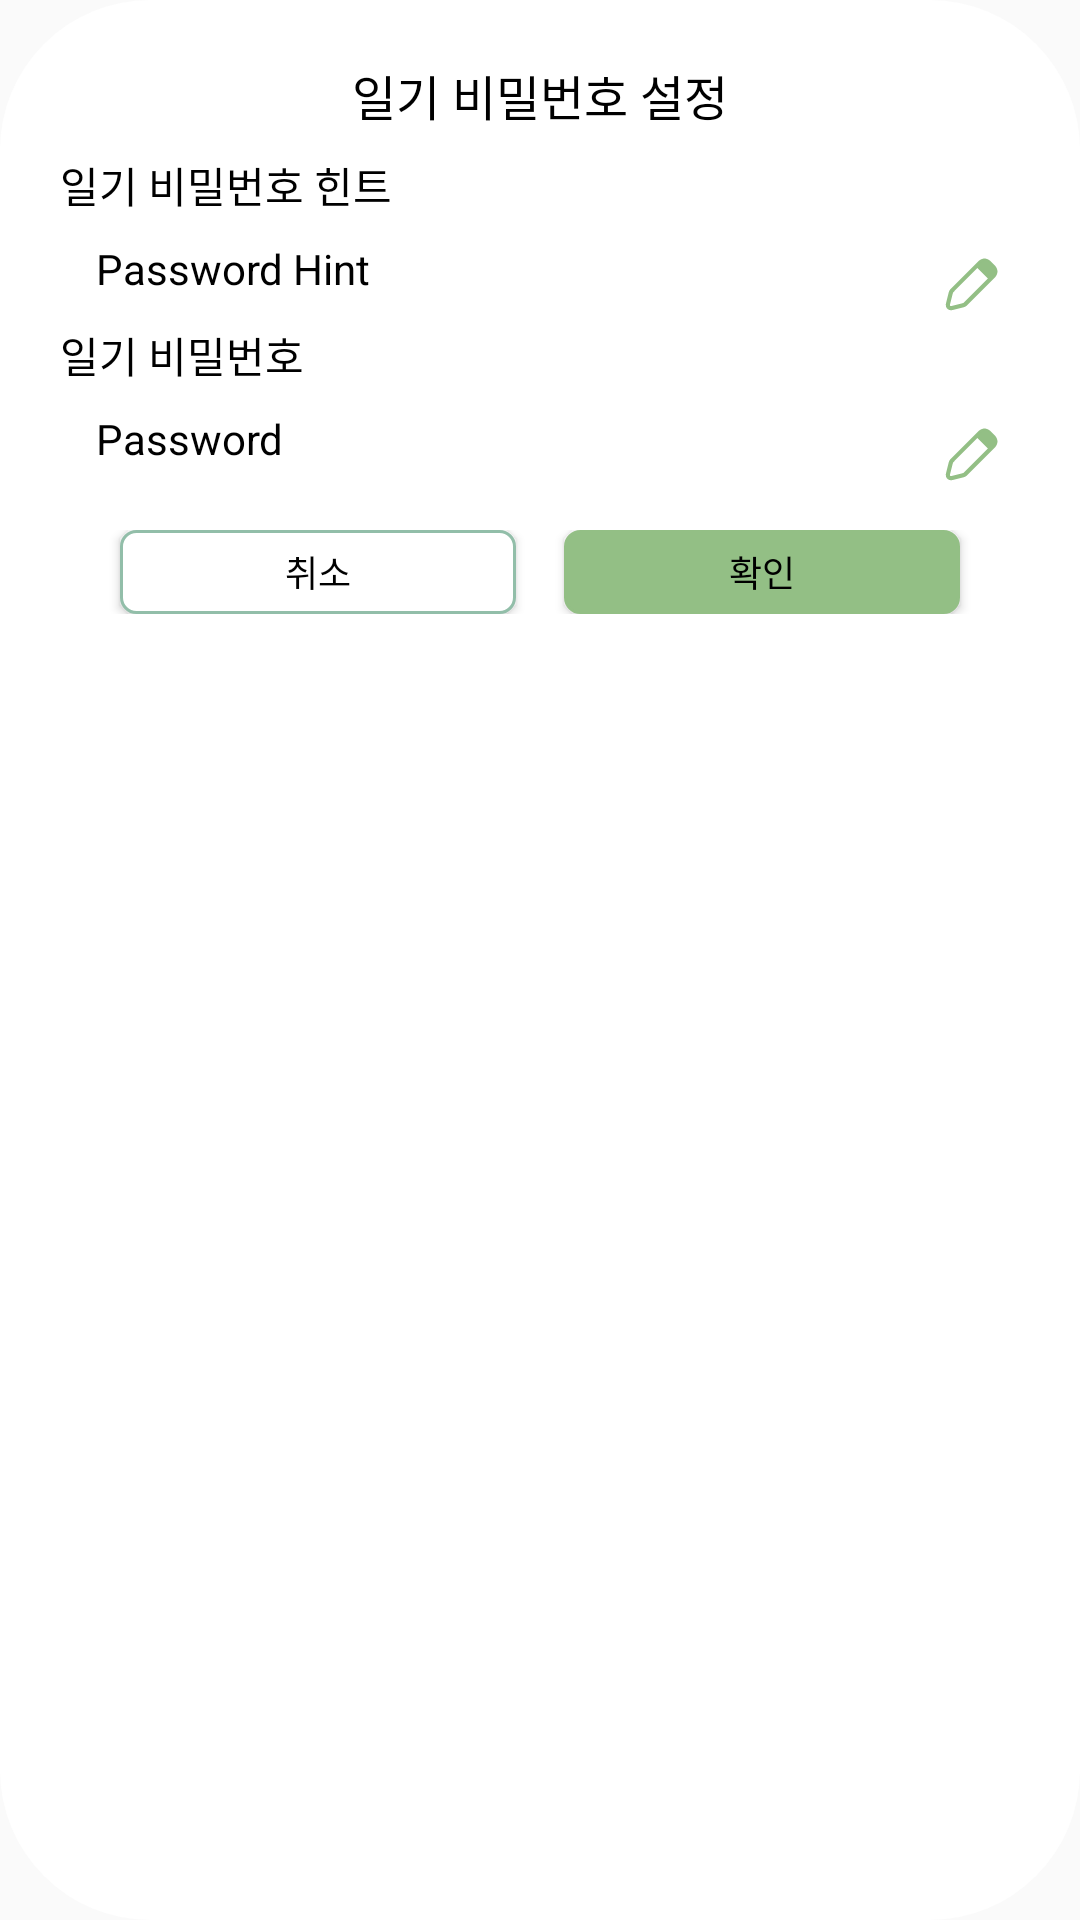

Screen size 1080px×1920px. Icon name, then its center in pixels as [x,y]:
edit todo: [971,284], [971,454]
